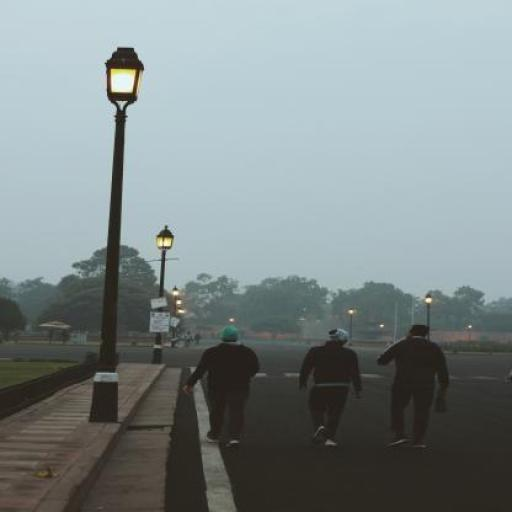street light: (90, 46, 145, 422), (151, 225, 175, 364), (424, 293, 434, 348), (171, 286, 179, 348), (177, 296, 182, 344), (348, 308, 354, 346), (468, 325, 472, 341)
